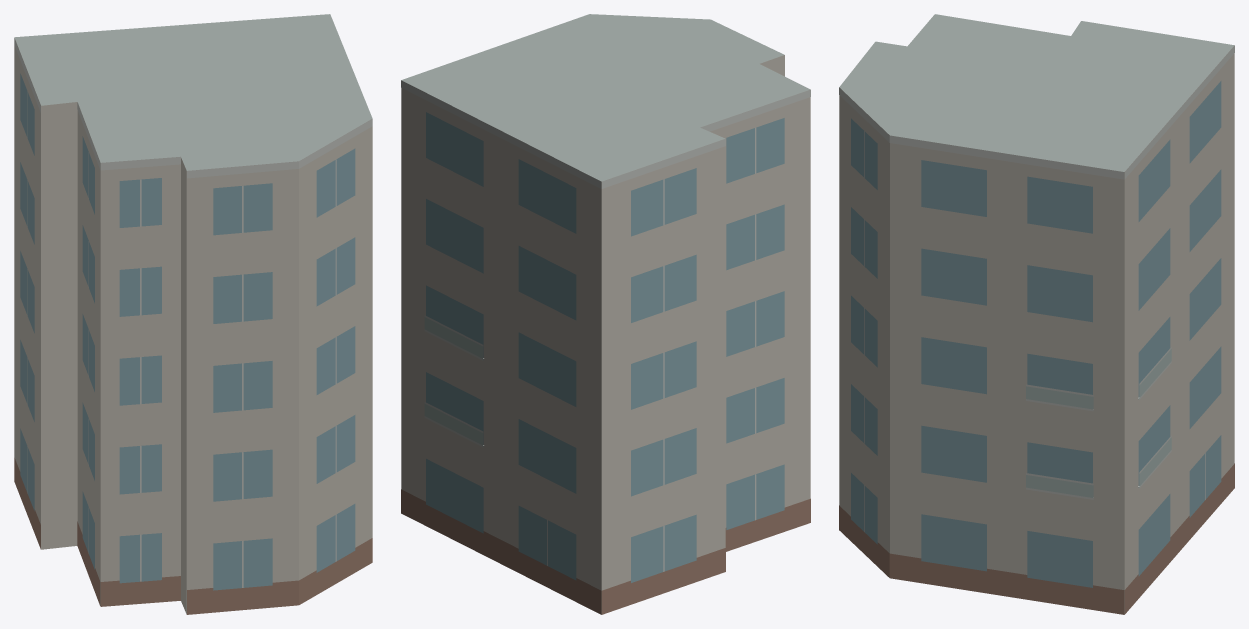
Rendered from survey-upis-32513426.glb.
3 views of the same model, side by side, from view 1: azimuth 30°, elevation 25°; view 2: azimuth 150°, elevation 25°; view 3: azimuth 270°, elevation 25° (orthographic). The views are drawn at different scales.
Visible parts, largest first — view 1: survey-upis-32513426.tmp; view 2: survey-upis-32513426.tmp; view 3: survey-upis-32513426.tmp.
Boxes of the visible parts, x1=… form: survey-upis-32513426.tmp: x1=14, y1=14, x2=372, y2=614; survey-upis-32513426.tmp: x1=401, y1=14, x2=810, y2=614; survey-upis-32513426.tmp: x1=839, y1=14, x2=1234, y2=614.
Size of the model in its own units: 10.88 by 14.2 by 11.51.
